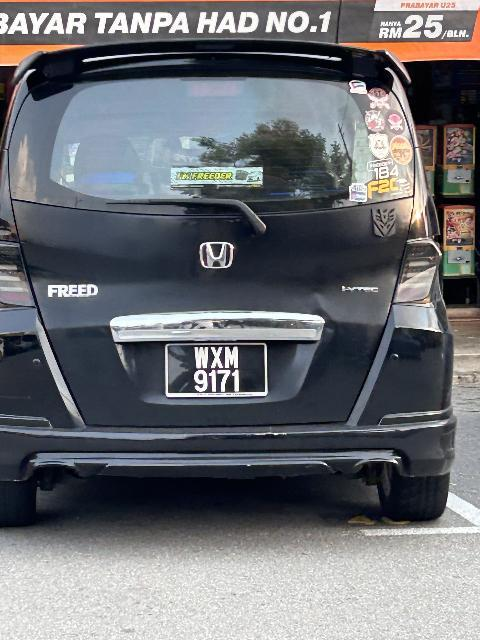License_Plate: (164, 342, 268, 401)
WXM9171: (164, 342, 268, 401)
car: (2, 31, 463, 531)
